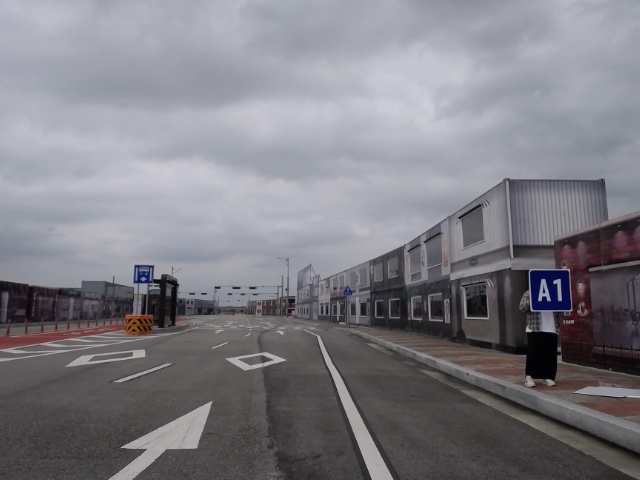delivery_a1: (529, 269, 572, 312)
